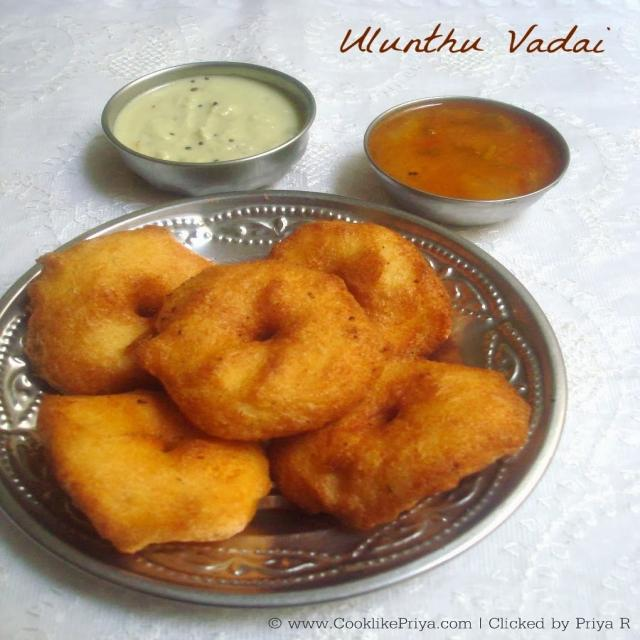chutney: (116, 76, 299, 162)
medu vadai: (271, 357, 530, 528), (138, 261, 386, 439), (25, 227, 211, 394)
